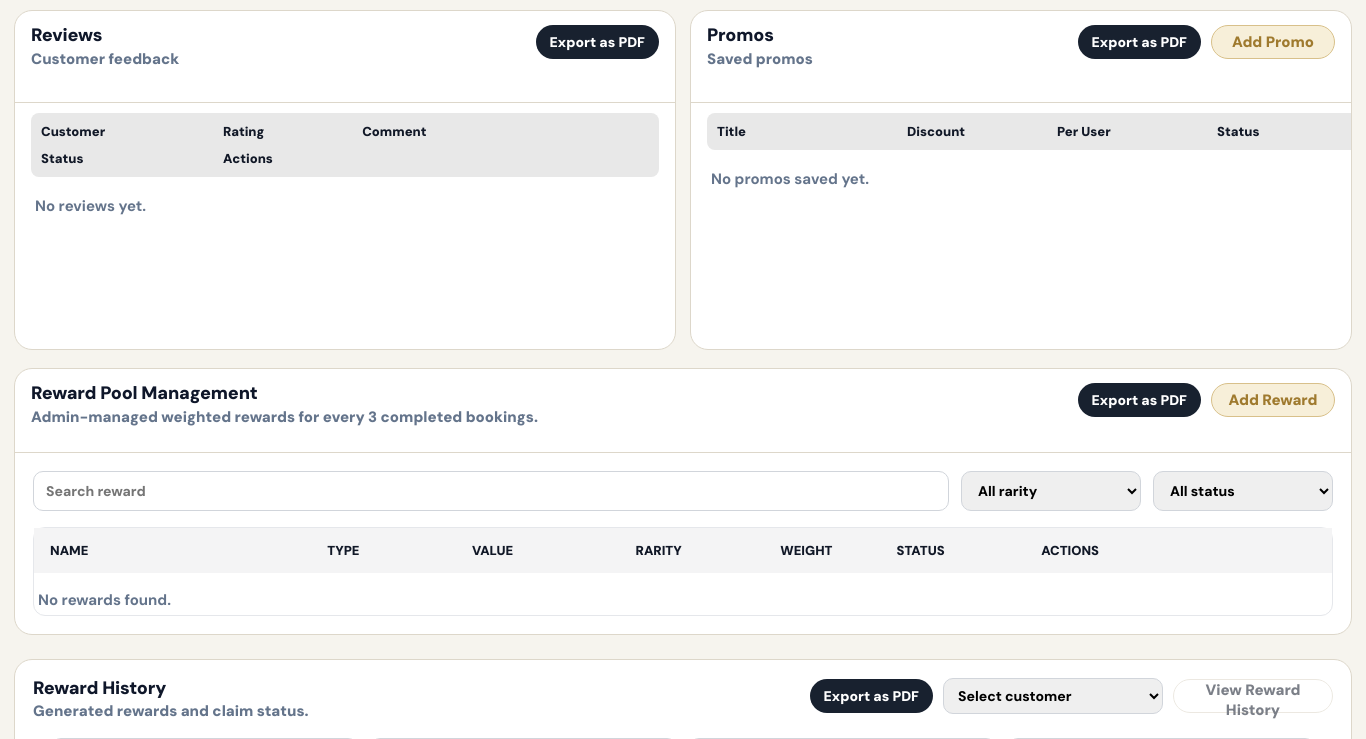
Scenario: Add Reward modal validation › starts with Save Reward genuinely disabled on the empty form
Click the button "Add Reward" at (1273, 400), box [1211,383,1335,417]
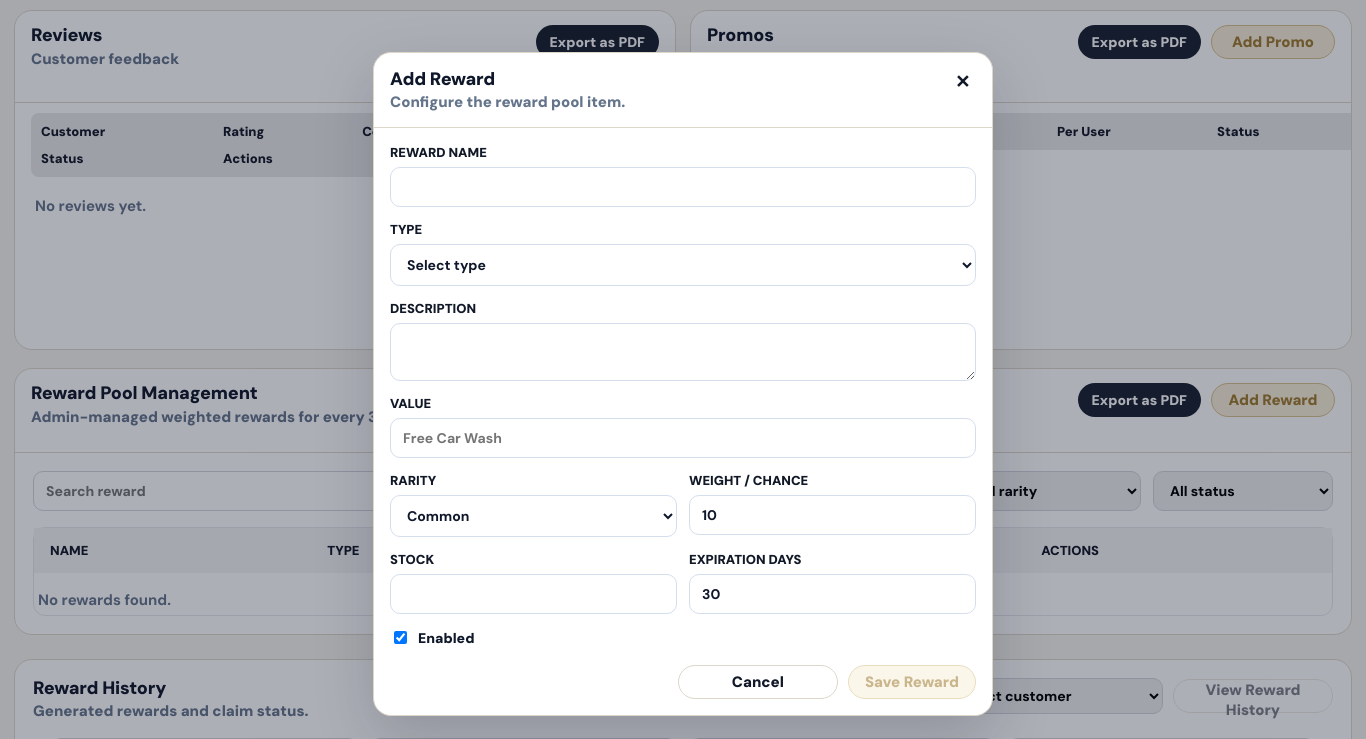
expect the dialog "Add Reward" is shown: met, box [373,52,993,716]
expect the button "Save Reward" is disabled: met, box [848,665,976,699]
